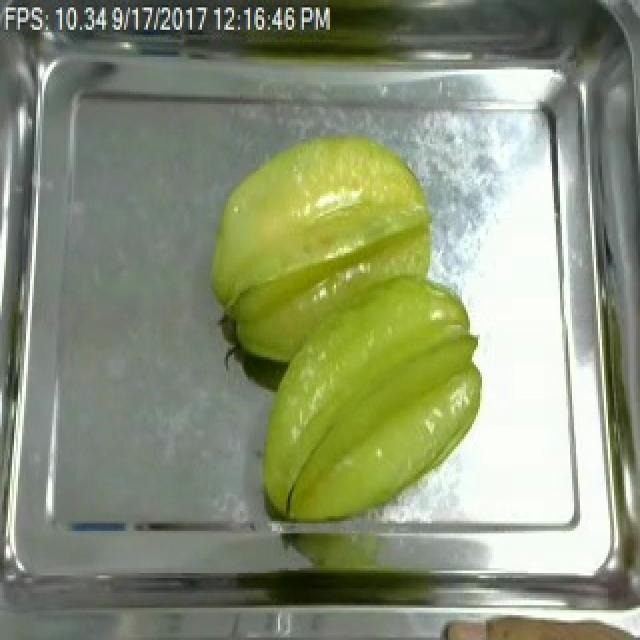fruit: (194, 124, 448, 407), (244, 263, 494, 536)
